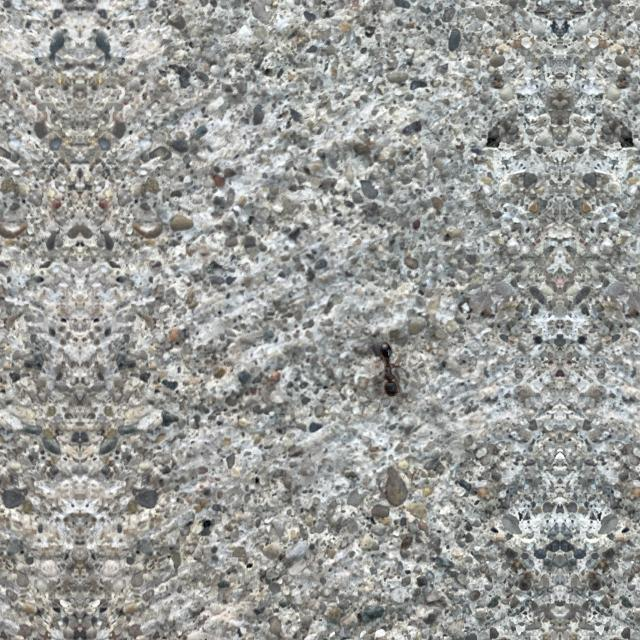Tetramorium: (368, 332, 412, 412)
